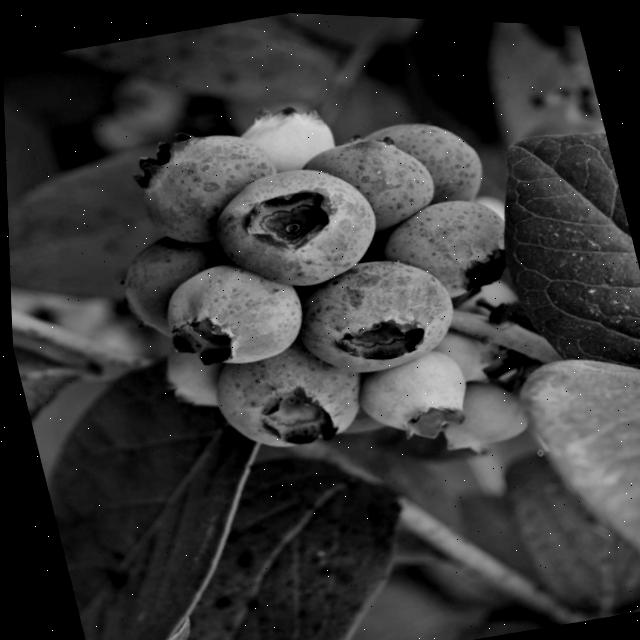RipeBlueBerry: (199, 146, 388, 303), (282, 237, 466, 385), (123, 115, 286, 254), (296, 119, 440, 240), (375, 103, 489, 214)
Semi-RipeBlueBerry: (201, 327, 372, 462), (147, 244, 313, 379), (370, 182, 521, 309)
UnripeBlueBerry: (350, 340, 470, 444), (230, 94, 342, 177), (429, 368, 532, 452)
